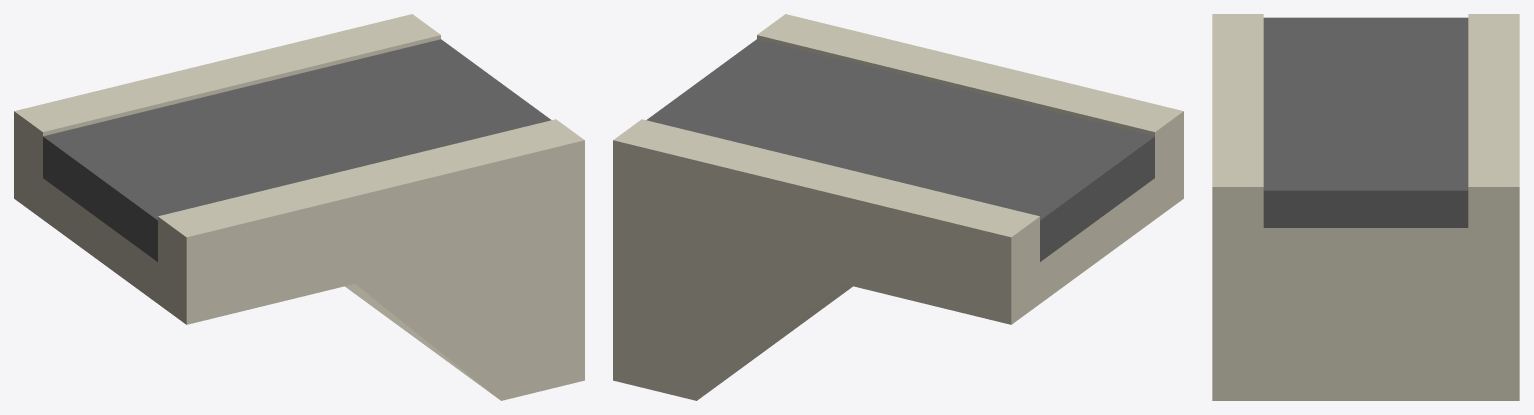
Rendered from roadTile_214.obj.
3 renders of one model, left to right at view 1: azimuth 30°, elevation 25°; view 2: azimuth 150°, elevation 25°; view 3: azimuth 270°, elevation 25°, orthographic. The views are drawn at different scales.
Visible parts, largest first — view 1: Mesh1_Group1_Model.234; view 2: Mesh1_Group1_Model.234; view 3: Mesh1_Group1_Model.234.
Boxes of the visible parts, left/top/right/bottom form: Mesh1_Group1_Model.234: left=14, top=14, right=584, bottom=400; Mesh1_Group1_Model.234: left=613, top=14, right=1183, bottom=400; Mesh1_Group1_Model.234: left=1212, top=14, right=1519, bottom=400.
Bounding box in the file's own units: 3 × 1.73 × 2.25.
